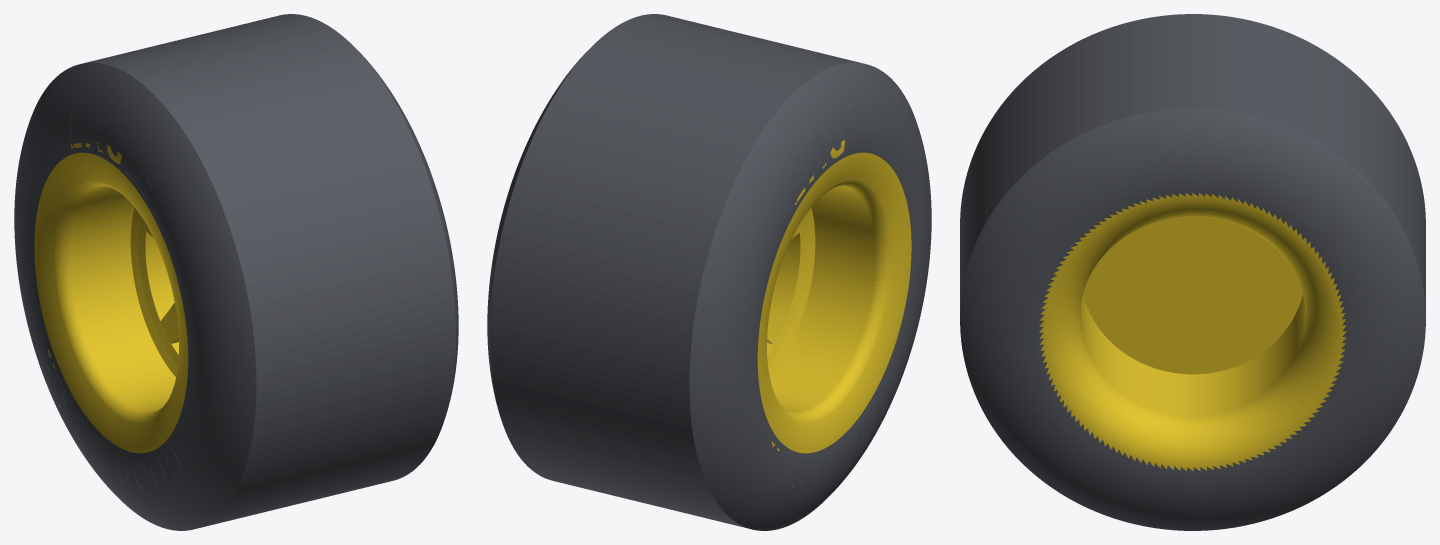
Rendered from jordan_191_candidate_wheel_rear.glb.
3 views of the same model, side by side, from view 1: azimuth 30°, elevation 25°; view 2: azimuth 150°, elevation 25°; view 3: azimuth 270°, elevation 25° (orthographic). The views are drawn at different scales.
Parts seen in each view (by area): view 1: rl_011_tire_black, rl_010_tire_black, rl_014_rim_gold, rl_010_rim_gold, rl_013_rim_gold, rl_000_rim_gold, rl_003_tire_black, rl_004_tire_black, rl_005_tire_black, rl_009_tire_black, rl_001_tire_black; view 2: rl_011_tire_black, rl_010_tire_black, rl_014_rim_gold, rl_010_rim_gold, rl_013_rim_gold, rl_000_rim_gold, rl_003_tire_black, rl_005_tire_black, rl_004_tire_black, rl_009_tire_black, rl_001_tire_black; view 3: rl_011_tire_black, rl_012_rim_gold, rl_015_rim_gold, rl_014_rim_gold, rl_011_rim_gold, rl_018_rim_gold.
Boxes of the visible parts, bbox=[...] form: rl_011_tire_black: bbox=[84, 14, 458, 528]; rl_010_tire_black: bbox=[14, 62, 256, 530]; rl_014_rim_gold: bbox=[70, 186, 178, 411]; rl_010_rim_gold: bbox=[34, 152, 188, 453]; rl_013_rim_gold: bbox=[54, 179, 179, 423]; rl_000_rim_gold: bbox=[130, 207, 178, 376]; rl_003_tire_black: bbox=[41, 110, 168, 490]; rl_004_tire_black: bbox=[41, 130, 183, 488]; rl_005_tire_black: bbox=[58, 106, 180, 487]; rl_009_tire_black: bbox=[44, 118, 165, 488]; rl_001_tire_black: bbox=[72, 161, 163, 444]; rl_011_tire_black: bbox=[487, 14, 863, 528]; rl_010_tire_black: bbox=[689, 62, 931, 530]; rl_014_rim_gold: bbox=[767, 186, 875, 411]; rl_010_rim_gold: bbox=[757, 152, 911, 453]; rl_013_rim_gold: bbox=[766, 179, 891, 423]; rl_000_rim_gold: bbox=[767, 207, 815, 376]; rl_003_tire_black: bbox=[759, 133, 888, 477]; rl_005_tire_black: bbox=[775, 113, 902, 486]; rl_004_tire_black: bbox=[766, 108, 902, 489]; rl_009_tire_black: bbox=[762, 142, 885, 480]; rl_001_tire_black: bbox=[789, 106, 877, 490]; rl_011_tire_black: bbox=[960, 14, 1425, 530]; rl_012_rim_gold: bbox=[1043, 196, 1342, 466]; rl_015_rim_gold: bbox=[1083, 216, 1302, 374]; rl_014_rim_gold: bbox=[1080, 294, 1305, 416]; rl_011_rim_gold: bbox=[1039, 192, 1346, 471]; rl_018_rim_gold: bbox=[1177, 258, 1208, 286].
Bounding box in the file's own units: 0.42 × 0.6946 × 0.6946.
